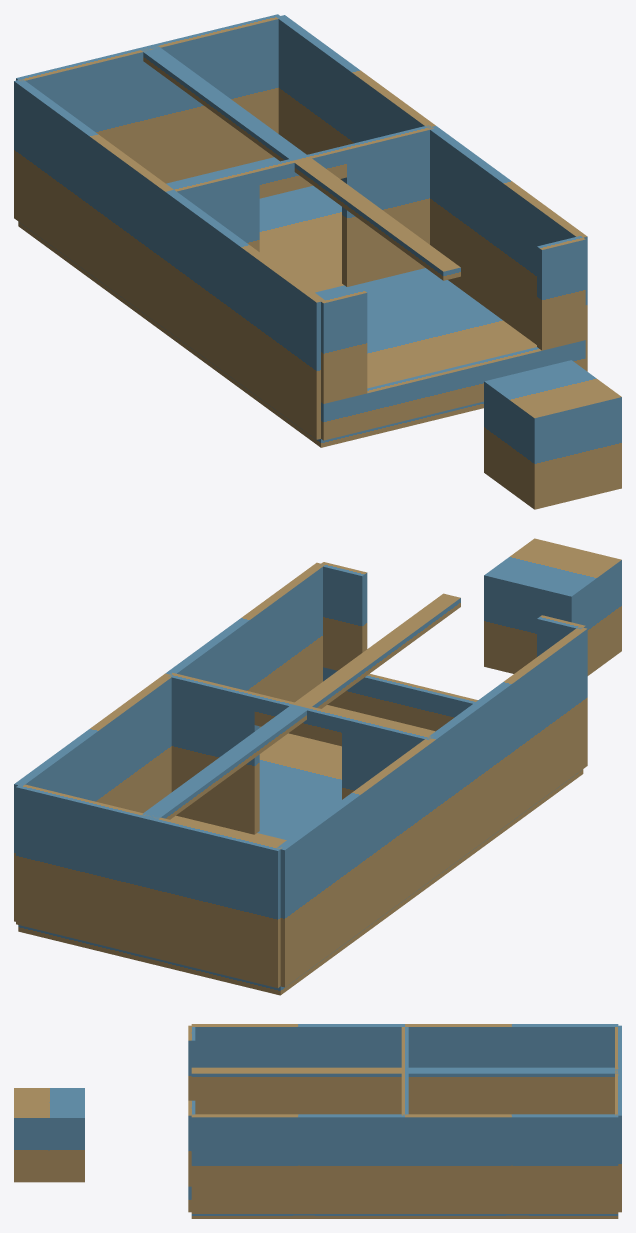
The model's file is giant-static.glb.
The picture shows the model from 3 angles, top to bottom: view 1: azimuth 30°, elevation 25°; view 2: azimuth 150°, elevation 25°; view 3: azimuth 270°, elevation 25°; orthographic projection. The views are drawn at different scales.
Parts seen in each view (by area): view 1: One giant static mesh; view 2: One giant static mesh; view 3: One giant static mesh.
Boxes of the visible parts, left/top/right/bottom form: One giant static mesh: left=14, top=14, right=621, bottom=509; One giant static mesh: left=14, top=538, right=621, bottom=995; One giant static mesh: left=14, top=1024, right=621, bottom=1218.
Bounding box in the file's own units: 6.2 × 3.2 × 17.1.
Materials: 1 (1 with a texture image).
